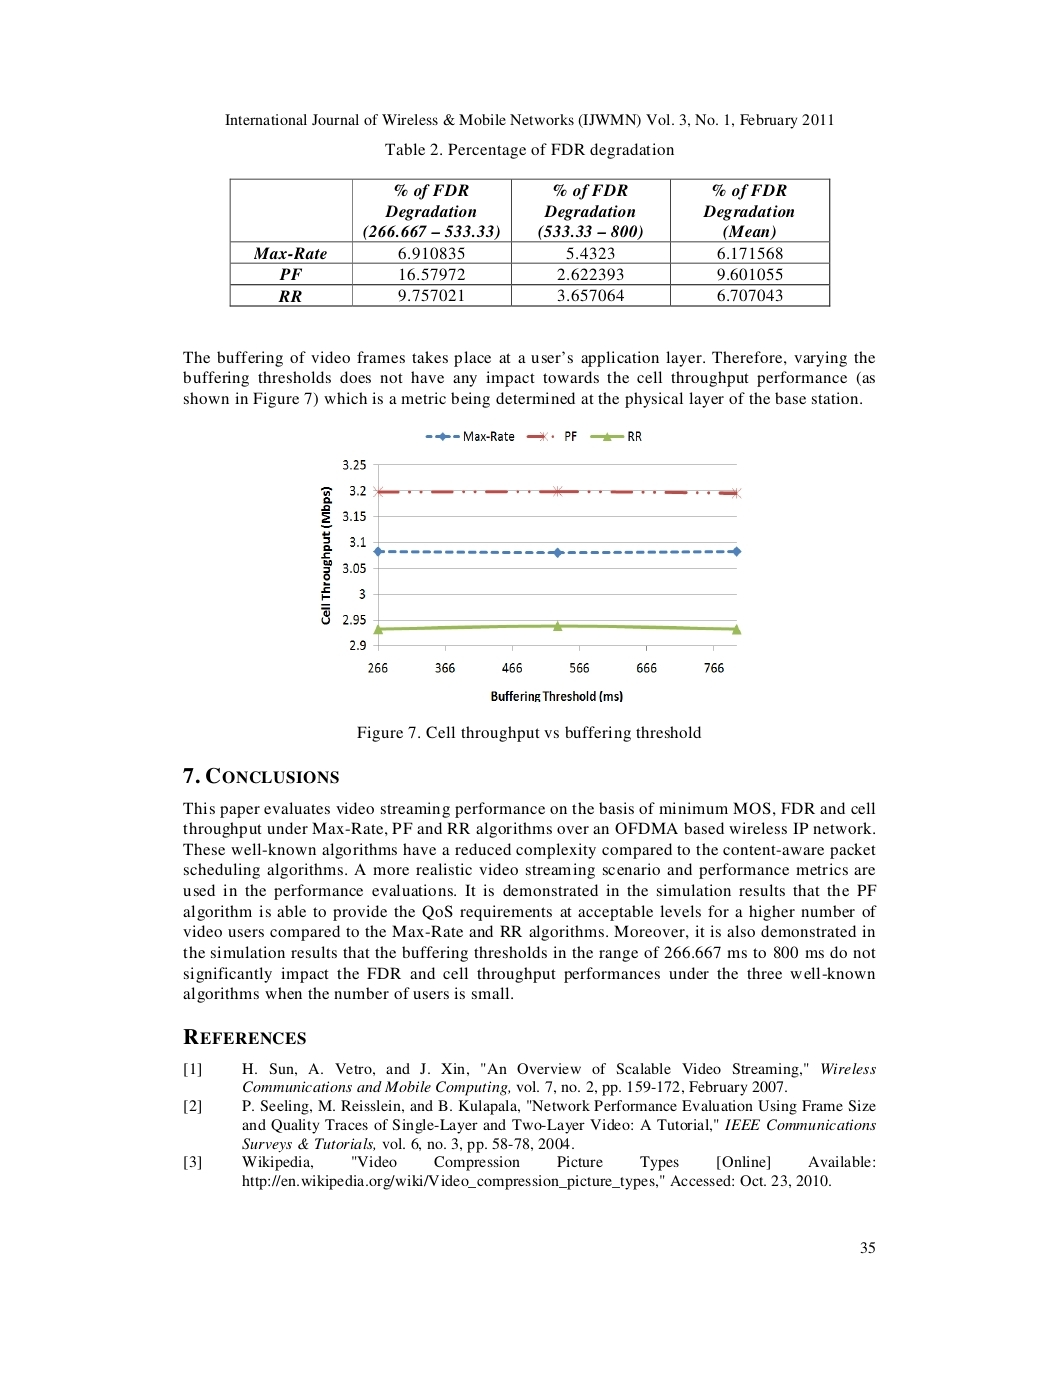Table: (228, 177, 830, 306)
figure: (321, 431, 741, 672)
